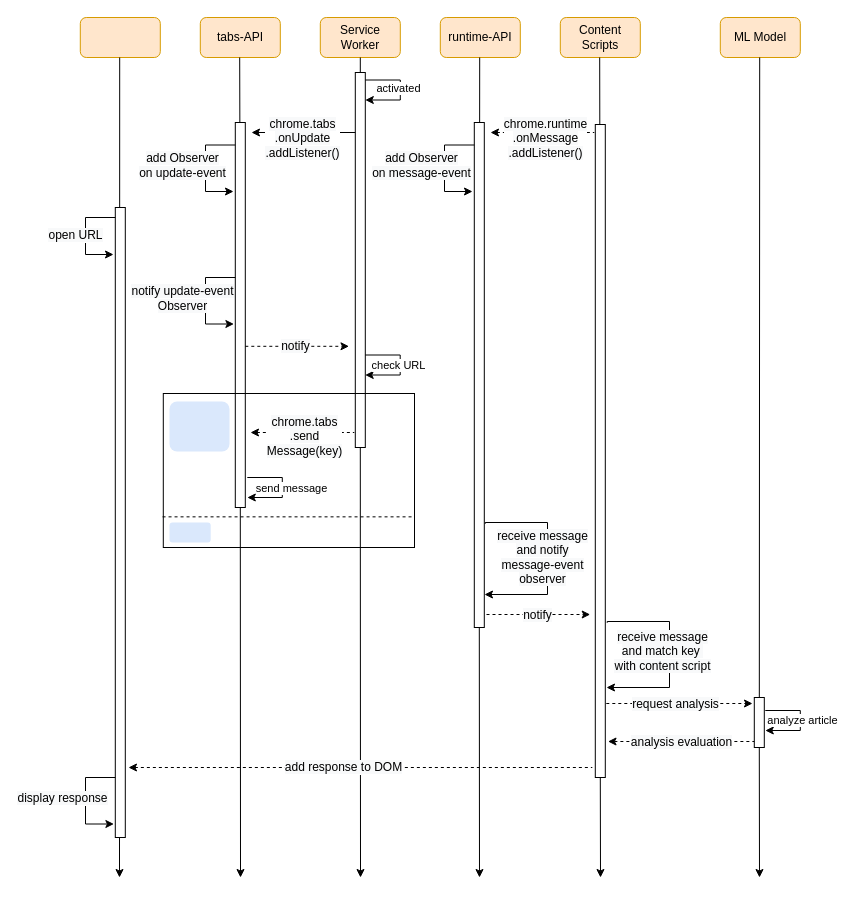
Some shapes in this 855 by 903 pixel diagram are drawn without their labels. The shapes that lost their labels are listed below. From the top down, each one's centre as x and y in pixels, then its label:
At (x=119, y=37): "Browser".
At (x=199, y=426): "[ if URL matches pattern ]".
At (x=189, y=532): "[ else ]".
